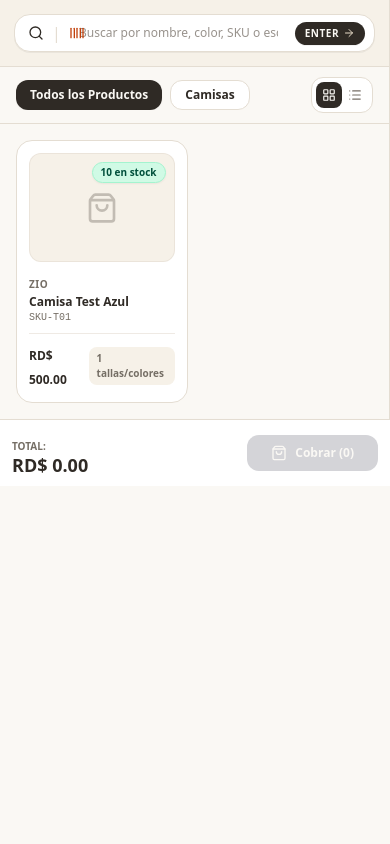
Test case: POSView -- drawer de carrito móvil (responsive) › tocar el área de Total abre el drawer con el mismo panel de carrito (reutiliza renderCartPanel, no una segunda implementación)
This screenshot has width=390, height=844.
What coordinates should you click on to do the following:
click the button with aria-label "Ver carrito de compra"
I would click on:
 (50, 453)
Its box is [12,432,88,474].
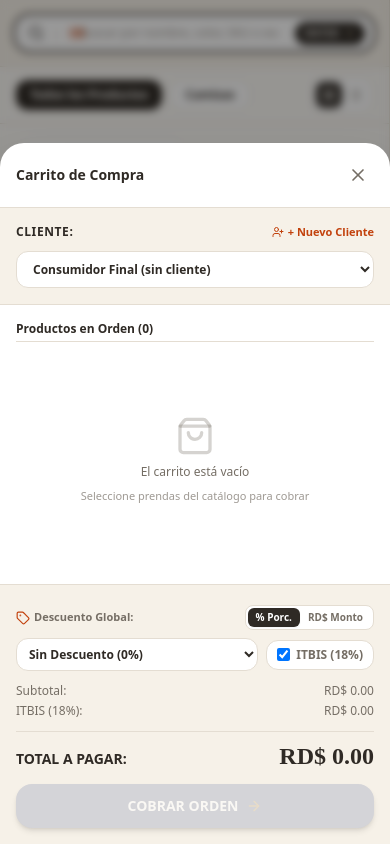
expect the text "Cliente:" is shown: met, box [16,224,74,240]
expect the text "Productos en Orden (0)" is shown: met, box [16,320,153,336]
expect the text "COBRAR ORDEN" is shown: met, box [128,796,238,816]
